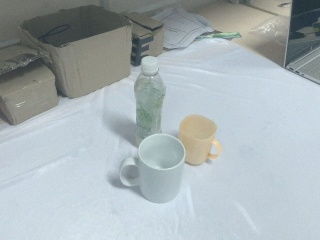bottle: (134, 56, 166, 146)
box: (19, 5, 133, 99)
cup: (119, 133, 186, 204), (178, 114, 223, 166)
